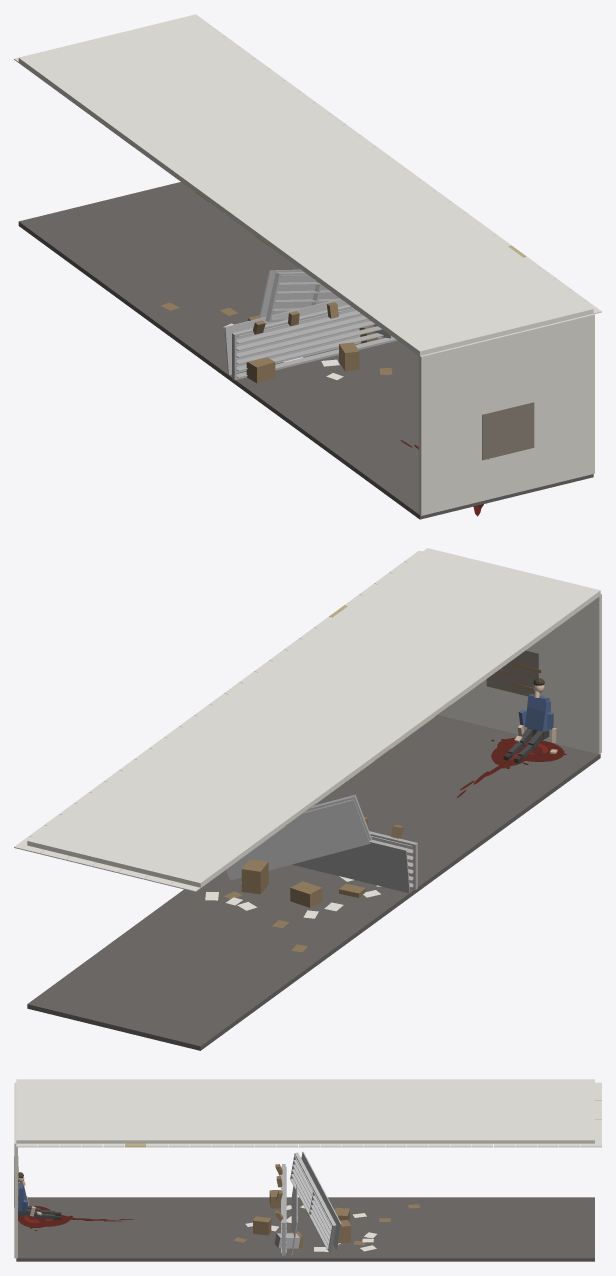
Rendered from Hallway1_Segment.fbx.
3 views of the same model, one above another, from view 1: azimuth 30°, elevation 25°; view 2: azimuth 150°, elevation 25°; view 3: azimuth 270°, elevation 25° (orthographic). The views are drawn at different scales.
Visible parts, largest first — view 1: Ceiling_Hallway1_Segment, Floor_Hallway1_Segment, Wall_South_H1_Left, Wall_South_H1_Right, Wall_South_H1_Above, Prop_CollapsedShelf_H1_Back, Prop_BoardedWindow_H1_Frame, Wall_South_H1_Below, Prop_CollapsedShelf_B_H1_Back, Prop_CollapsedShelf_H1_Level3, Prop_CollapsedShelf_H1_Level4, Prop_CollapsedShelf_H1_Level5; view 2: Ceiling_Hallway1_Segment, Floor_Hallway1_Segment, Wall_South_H1_Left, Prop_CollapsedShelf_B_H1_Back, Prop_CollapsedShelf_H1_Back, Wall_South_H1_Below, Prop_BoardedWindow_H1_Frame, Wall_South_H1_Right, Prop_Box_02, Prop_Box_03, Decal_BloodPool_H1_00; view 3: Ceiling_Hallway1_Segment, Floor_Hallway1_Segment, Prop_CollapsedShelf_B_H1_Back, Wall_South_H1_Right, Prop_CollapsedShelf_B_H1_SpineTop, Prop_CollapsedShelf_H1_Back, Prop_Box_06, Prop_TrashBin_H1, Prop_CollapsedShelf_B_H1_Level3, Prop_CollapsedShelf_B_H1_Level5, Prop_CollapsedShelf_B_H1_Level2, Prop_CollapsedShelf_B_H1_Level4 (+1 smaller).
Boxes of the visible parts, x1,y1,x2,y2 form: Ceiling_Hallway1_Segment: (18,15,593,355); Floor_Hallway1_Segment: (18,182,593,519); Wall_South_H1_Left: (418,341,481,515); Wall_South_H1_Right: (533,313,594,488); Wall_South_H1_Above: (481,328,533,414); Prop_CollapsedShelf_H1_Back: (224,298,383,374); Prop_BoardedWindow_H1_Frame: (482,402,534,460); Wall_South_H1_Below: (482,448,533,500); Prop_CollapsedShelf_B_H1_Back: (259,269,339,318); Prop_CollapsedShelf_H1_Level3: (236,326,382,364); Prop_CollapsedShelf_H1_Level4: (236,321,375,357); Prop_CollapsedShelf_H1_Level5: (236,316,368,350); Ceiling_Hallway1_Segment: (27,548,600,887); Floor_Hallway1_Segment: (27,715,600,1050); Wall_South_H1_Left: (539,593,601,754); Prop_CollapsedShelf_B_H1_Back: (226,799,370,879); Prop_CollapsedShelf_H1_Back: (292,841,410,893); Wall_South_H1_Below: (487,686,532,737); Prop_BoardedWindow_H1_Frame: (486,650,538,696); Wall_South_H1_Right: (438,679,486,726); Prop_Box_02: (241,859,268,894); Prop_Box_03: (290,881,322,907); Decal_BloodPool_H1_00: (497,737,564,761); Ceiling_Hallway1_Segment: (16,1079,594,1143); Floor_Hallway1_Segment: (16,1197,594,1261); Prop_CollapsedShelf_B_H1_Back: (301,1151,341,1249); Wall_South_H1_Right: (14,1122,17,1258); Prop_CollapsedShelf_B_H1_SpineTop: (294,1152,336,1226); Prop_CollapsedShelf_H1_Back: (291,1185,297,1255); Prop_Box_06: (253,1216,271,1235); Prop_TrashBin_H1: (274,1233,300,1248); Prop_CollapsedShelf_B_H1_Level3: (292,1169,330,1240); Prop_CollapsedShelf_B_H1_Level5: (293,1159,331,1230); Prop_CollapsedShelf_B_H1_Level2: (291,1174,329,1244); Prop_CollapsedShelf_B_H1_Level4: (292,1164,331,1235).
Bounding box in the file's own units: 422 × 395 × 1626.
